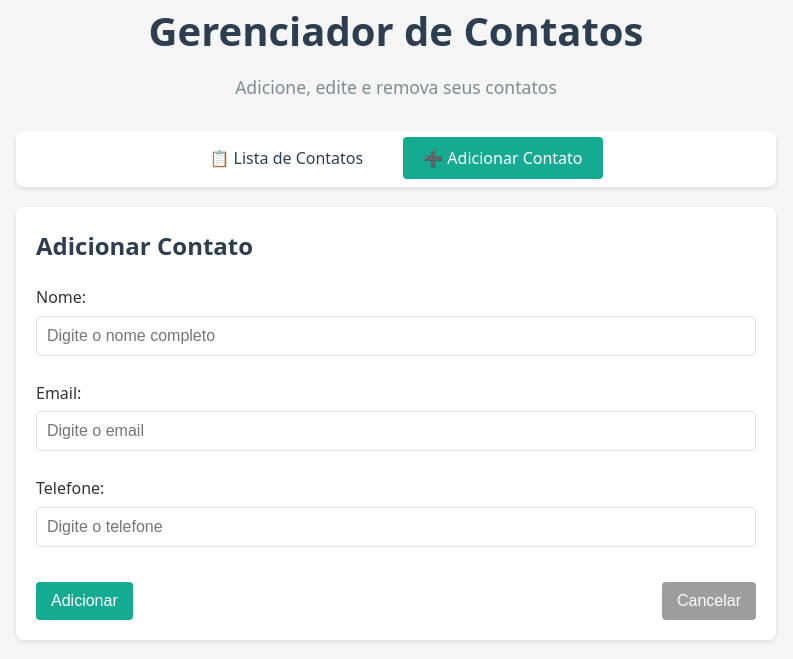
Navegação com Estados › deve manter contexto ao navegar para edição
Type "Teste Navegação" into the field with id "name".
click(396, 336); type("Teste Navegação")  # box [36, 316, 756, 356]
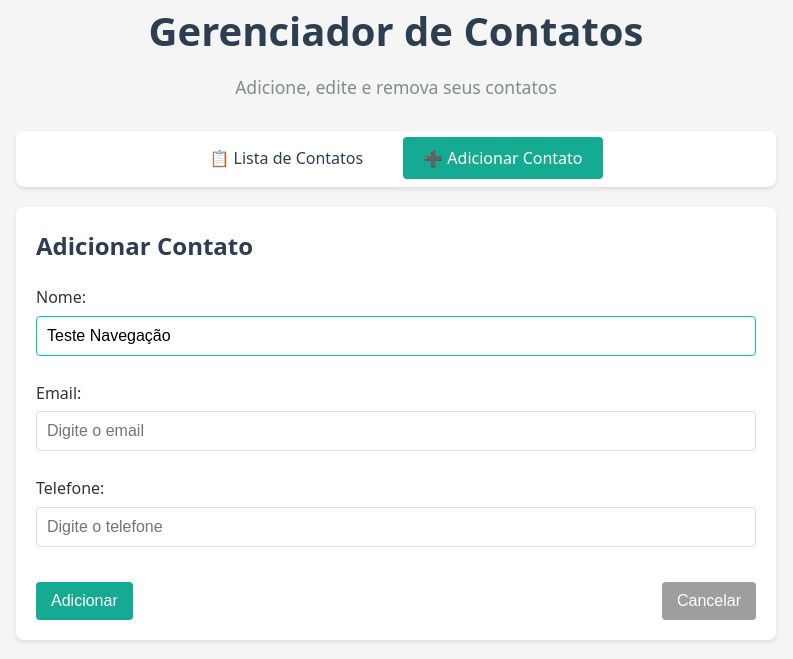
Type "nav@test.com" into the field with id "email".
click(396, 431); type("nav@test.com")  # box [36, 411, 756, 451]
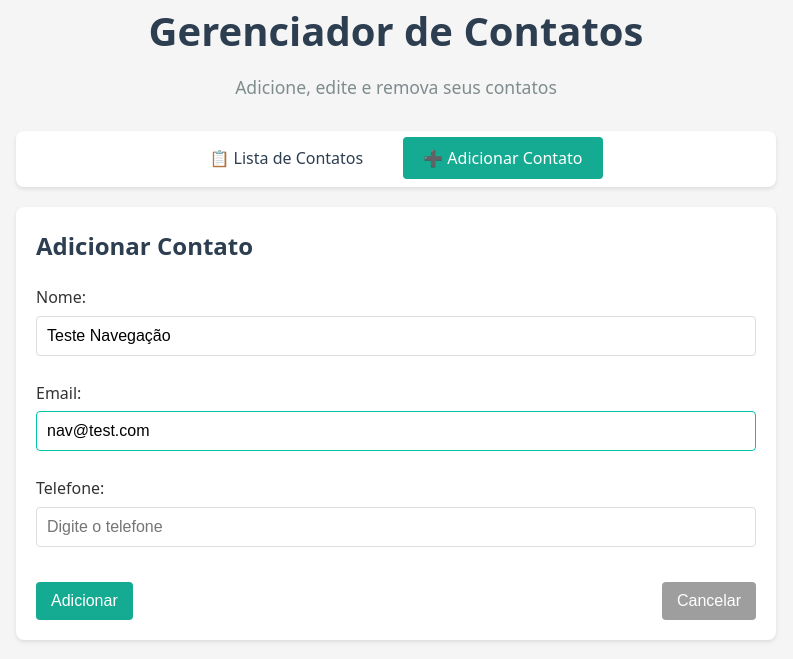
Type "(11) 99999-9999" into the field labelled "Telefone:".
click(396, 527); type("(11) 99999-9999")  # box [36, 507, 756, 547]
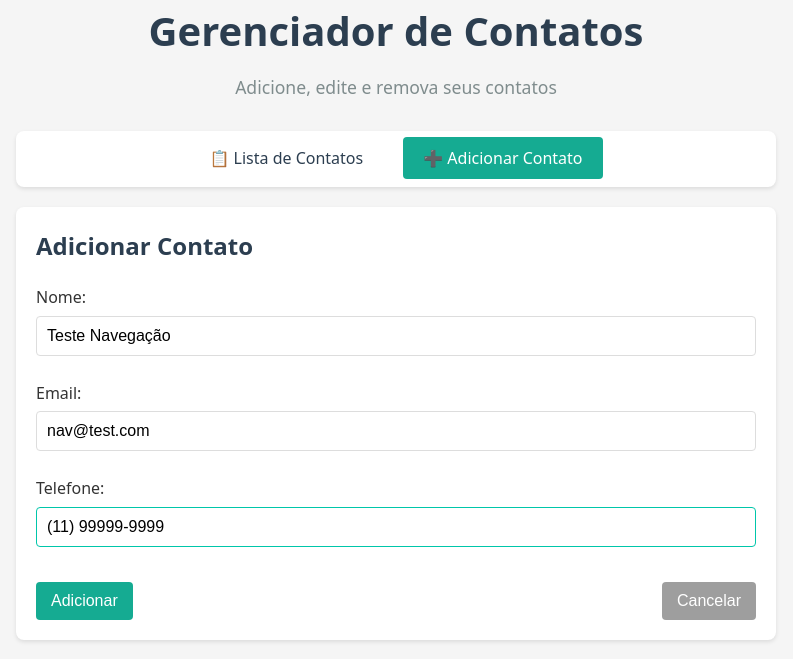
Click the submit button.
click(85, 601)  # box [36, 582, 133, 620]
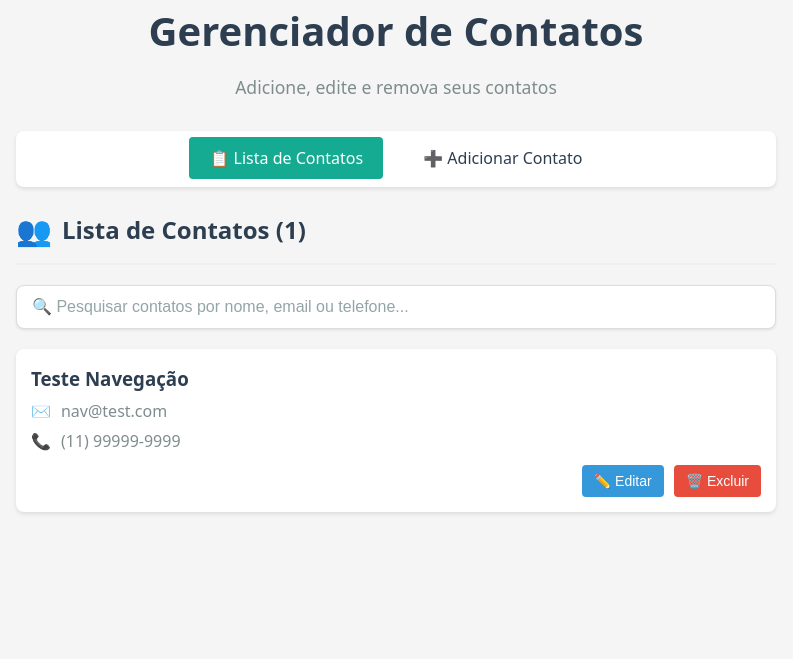
Result: the element with test id "contact-item" is shown at [16, 349, 776, 512]
Result: the heading with test id "contact-name" reads "Teste Navegação" at [31, 366, 189, 391]
Result: the button with test id "edit-button" is shown
Click the button with test id "edit-button".
click(623, 481)  # box [582, 465, 664, 497]
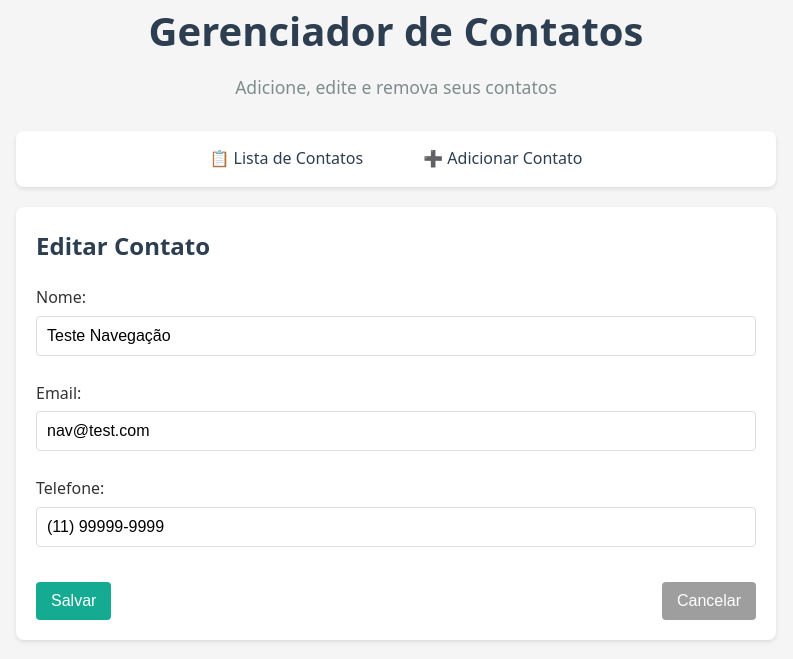
Result: the field with id "name" holds "Teste Navegação" at [36, 316, 756, 356]
